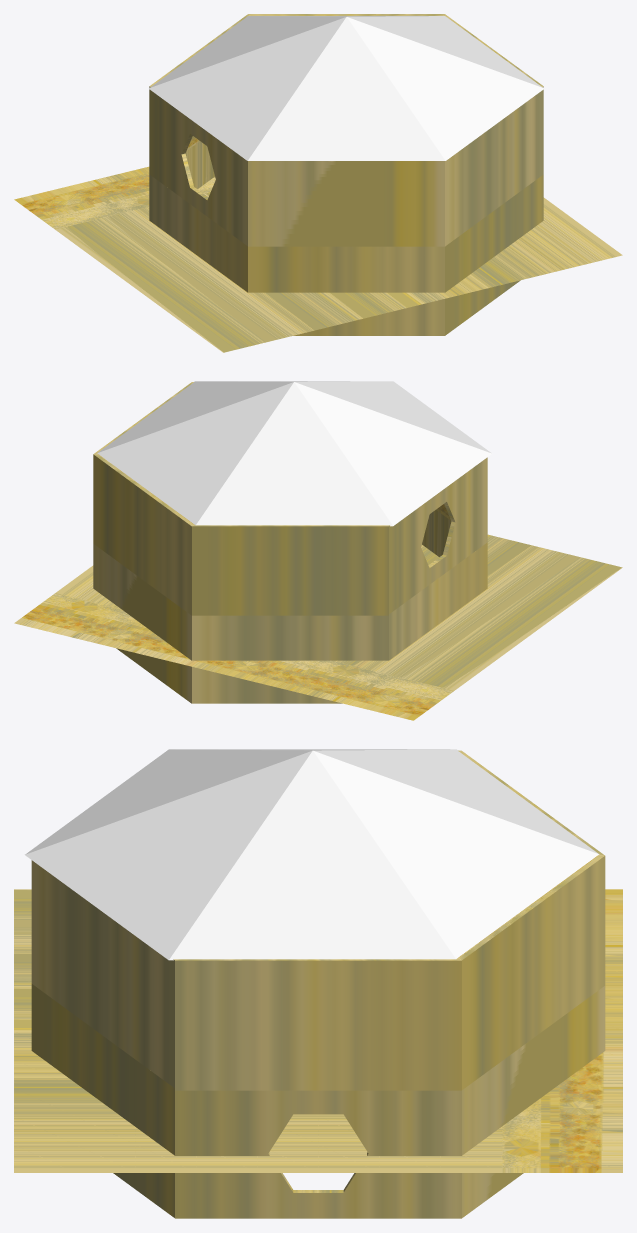
Rendered from Room.fbx.
The picture shows the model from 3 angles, top to bottom: view 1: azimuth 30°, elevation 25°; view 2: azimuth 150°, elevation 25°; view 3: azimuth 270°, elevation 25°; orthographic projection. The views are drawn at different scales.
Visible parts, largest first — view 1: Ceiling, WallPortalThick, Ground, Wall_Lower_Room; view 2: Ceiling, WallPortalThick, Ground, Wall_Lower_Room; view 3: Ceiling, WallPortalThick, Wall_Lower_Room, Ground.
Part boxes in pixels (bbox=[...]): Ceiling: bbox=[149, 16, 544, 160]; WallPortalThick: bbox=[149, 14, 543, 246]; Ground: bbox=[14, 166, 622, 352]; Wall_Lower_Room: bbox=[149, 141, 543, 335]; Ceiling: bbox=[97, 381, 491, 526]; WallPortalThick: bbox=[93, 382, 487, 615]; Ground: bbox=[14, 534, 622, 720]; Wall_Lower_Room: bbox=[93, 510, 487, 703]; Ceiling: bbox=[25, 749, 599, 960]; WallPortalThick: bbox=[31, 750, 605, 1090]; Wall_Lower_Room: bbox=[31, 984, 605, 1218]; Ground: bbox=[14, 889, 622, 1172].
Size of the model in its own units: 3932 by 2358 by 3569.
